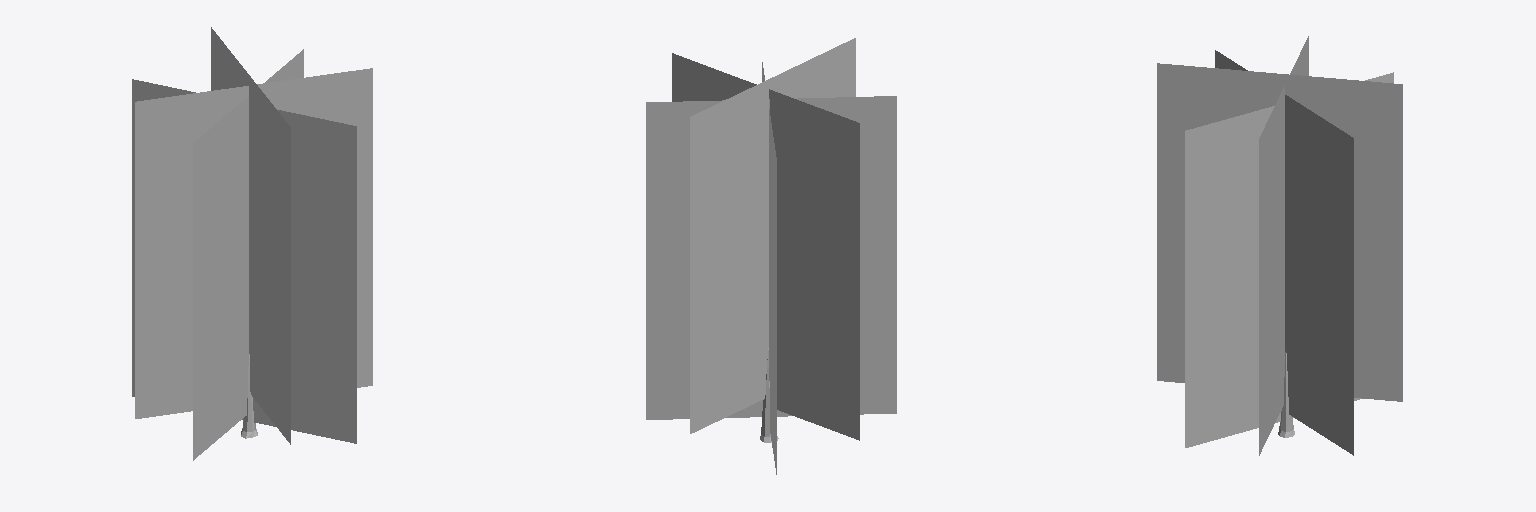
The model's file is tree_rt_3.obj.
3 renders of one model, left to right at view 1: azimuth 30°, elevation 25°; view 2: azimuth 150°, elevation 25°; view 3: azimuth 270°, elevation 25°, orthographic.
Visible parts, largest first — view 1: tree_rt_3; view 2: tree_rt_3; view 3: tree_rt_3.
Boxes of the visible parts, <box> form: tree_rt_3: <box>132,27,372,460</box>; tree_rt_3: <box>646,38,896,474</box>; tree_rt_3: <box>1157,36,1402,455</box>.
Size of the model in its own units: 2.43 by 3.93 by 2.43.